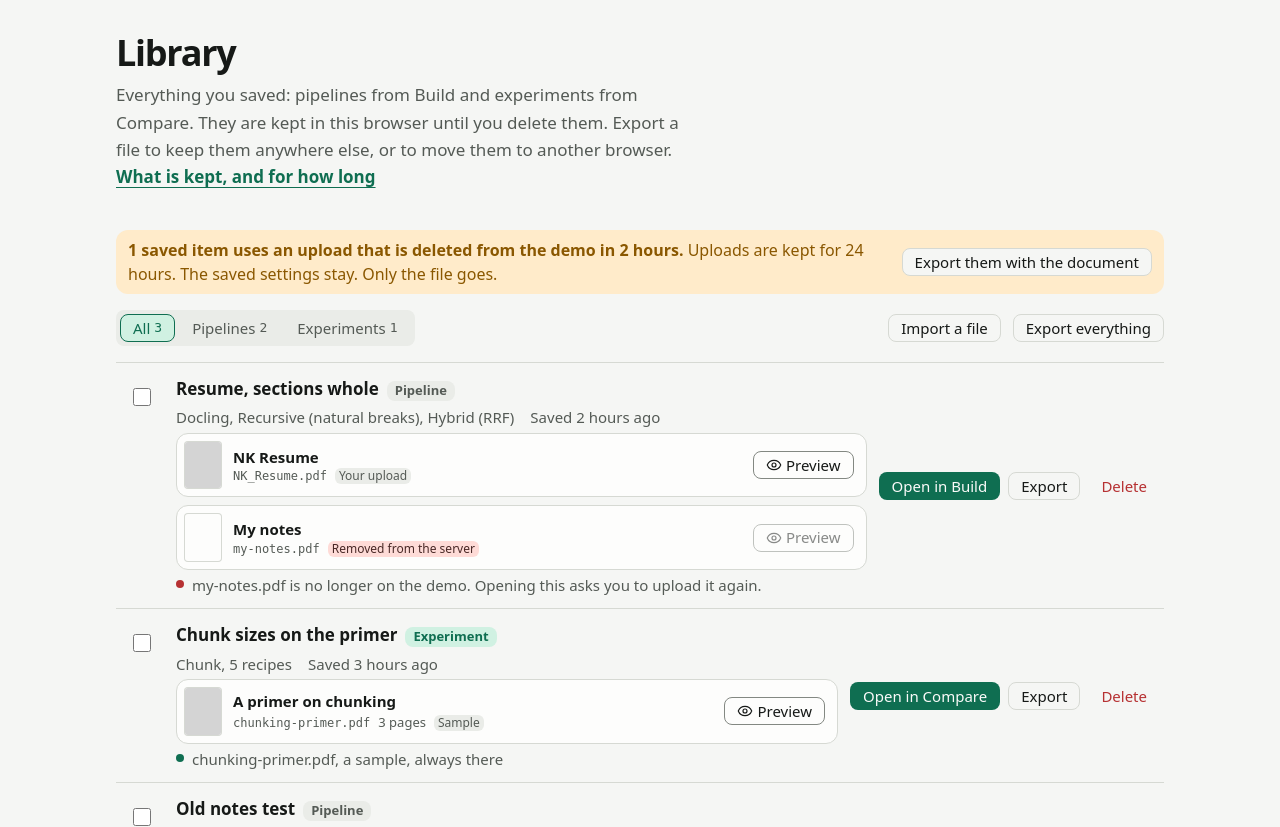
Test: Library › warns about an item whose one document is gone and whose other is leaving soon
This screenshot has width=1280, height=827.
Expected: the text "my-notes.pdf is no longer on the demo" is shown, x1=192 y1=575 x2=762 y2=595
Expected: the message with test id "upload-warning" shows "1 saved item uses an upload that is deleted from the demo in 2 hours.", x1=116 y1=230 x2=1164 y2=294
Click the button "Export them with the document".
click(1027, 262)  # box x1=902 y1=248 x2=1152 y2=276
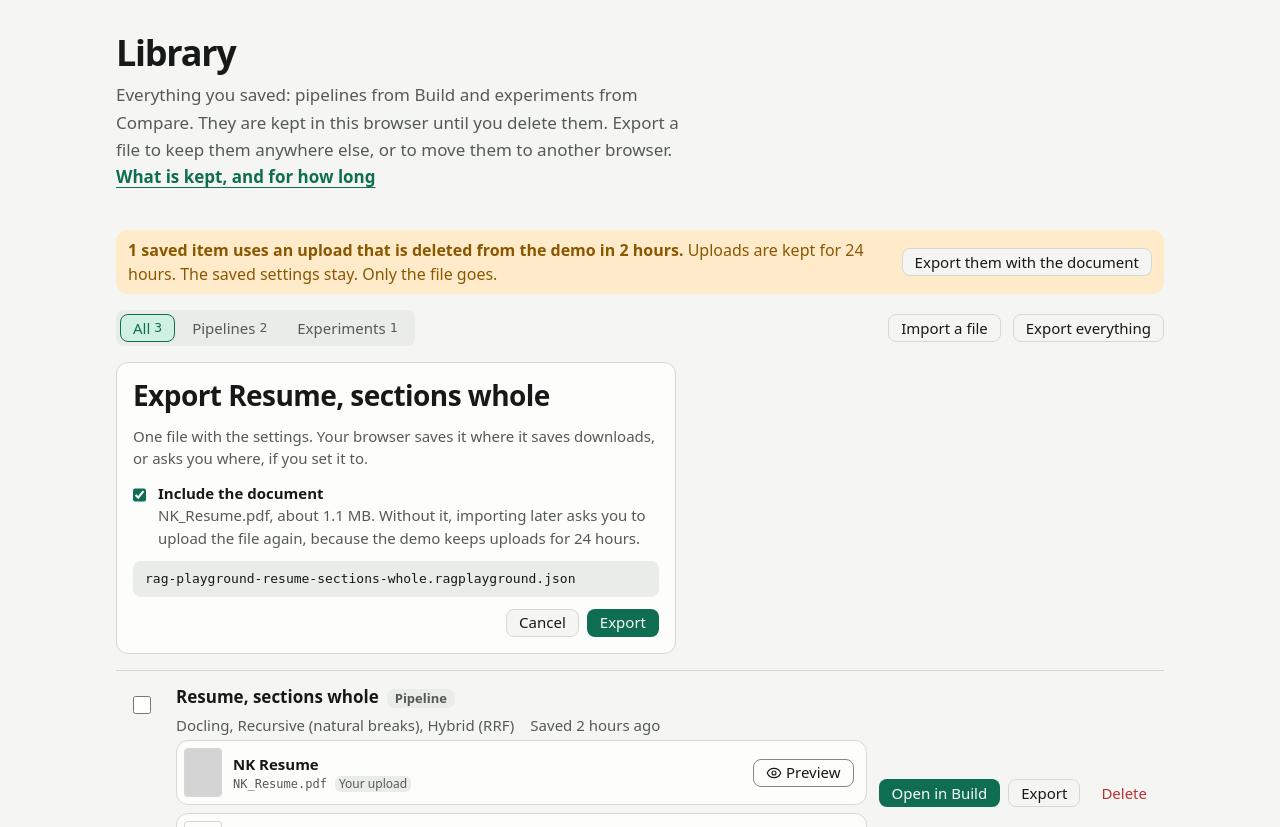
Expected: the text "rag-playground-resume-sections-whole.ragplayground.json" is shown, x1=133 y1=561 x2=659 y2=597
